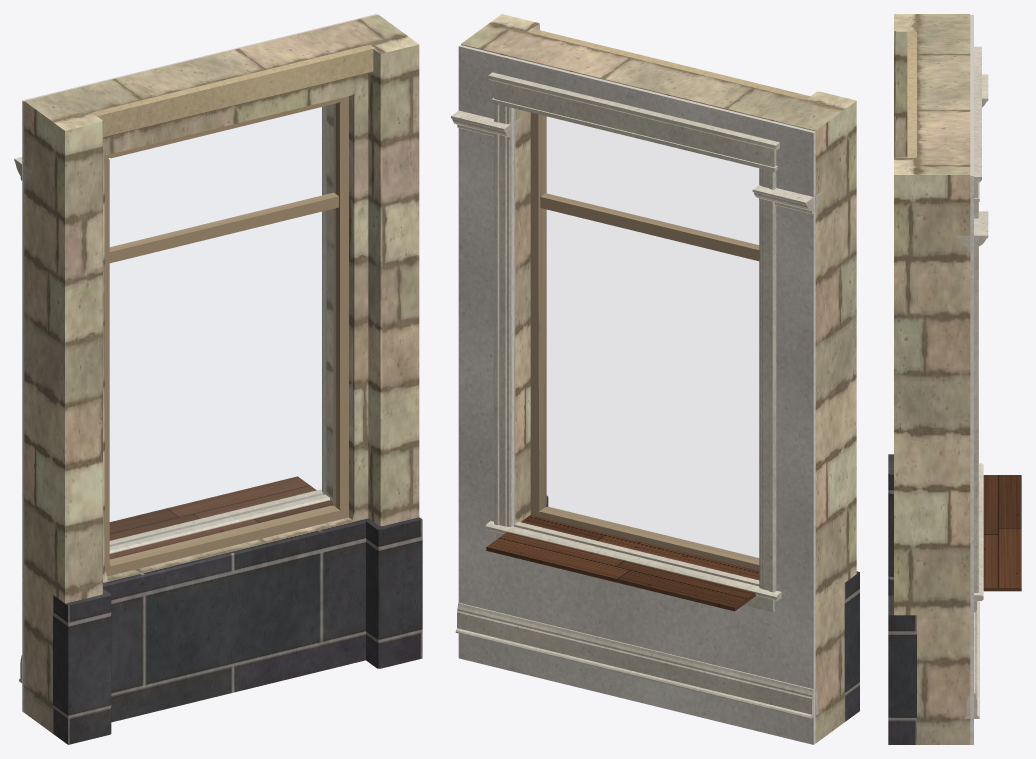
File: f_g_vitrine.glb
The picture shows the model from 3 angles, left to right: view 1: azimuth 30°, elevation 25°; view 2: azimuth 150°, elevation 25°; view 3: azimuth 270°, elevation 25°; orthographic projection. The views are drawn at different scales.
Visible parts, largest first — view 1: f_g_vitrine_terra, f_g_vitrine_glass, f_g_vitrine_plinth, f_g_vitrine_bronze, f_g_vitrine_terra2, f_g_vitrine_wood, molduras, f_g_vitrine_plaster; view 2: f_g_vitrine_glass, f_g_vitrine_plaster, molduras, f_g_vitrine_terra, f_g_vitrine_bronze, f_g_vitrine_wood, f_g_vitrine_plinth, f_g_vitrine_terra2; view 3: f_g_vitrine_terra, molduras, f_g_vitrine_plinth, f_g_vitrine_wood, f_g_vitrine_plaster, f_g_vitrine_terra2.
Boxes of the visible parts, x1=… form: f_g_vitrine_terra: x1=24, y1=14, x2=419, y2=733; f_g_vitrine_glass: x1=109, y1=104, x2=335, y2=561; f_g_vitrine_plinth: x1=53, y1=517, x2=422, y2=744; f_g_vitrine_bronze: x1=105, y1=96, x2=348, y2=576; f_g_vitrine_terra2: x1=92, y1=45, x2=373, y2=137; f_g_vitrine_wood: x1=109, y1=476, x2=333, y2=559; molduras: x1=14, y1=105, x2=330, y2=686; f_g_vitrine_plaster: x1=22, y1=14, x2=376, y2=712; f_g_vitrine_glass: x1=543, y1=116, x2=758, y2=561; f_g_vitrine_plaster: x1=458, y1=45, x2=815, y2=744; molduras: x1=451, y1=72, x2=823, y2=719; f_g_vitrine_terra: x1=461, y1=14, x2=856, y2=742; f_g_vitrine_bronze: x1=530, y1=112, x2=759, y2=570; f_g_vitrine_wood: x1=486, y1=515, x2=759, y2=611; f_g_vitrine_plinth: x1=545, y1=495, x2=859, y2=721; f_g_vitrine_terra2: x1=529, y1=29, x2=809, y2=99; f_g_vitrine_terra: x1=894, y1=14, x2=970, y2=744; molduras: x1=956, y1=46, x2=988, y2=718; f_g_vitrine_plinth: x1=888, y1=454, x2=916, y2=744; f_g_vitrine_wood: x1=983, y1=475, x2=1021, y2=591; f_g_vitrine_plaster: x1=970, y1=15, x2=973, y2=744; f_g_vitrine_terra2: x1=907, y1=31, x2=916, y2=157.
Size of the model in its own units: 2 by 3.3 by 0.7.
8 materials, 6 textured.
